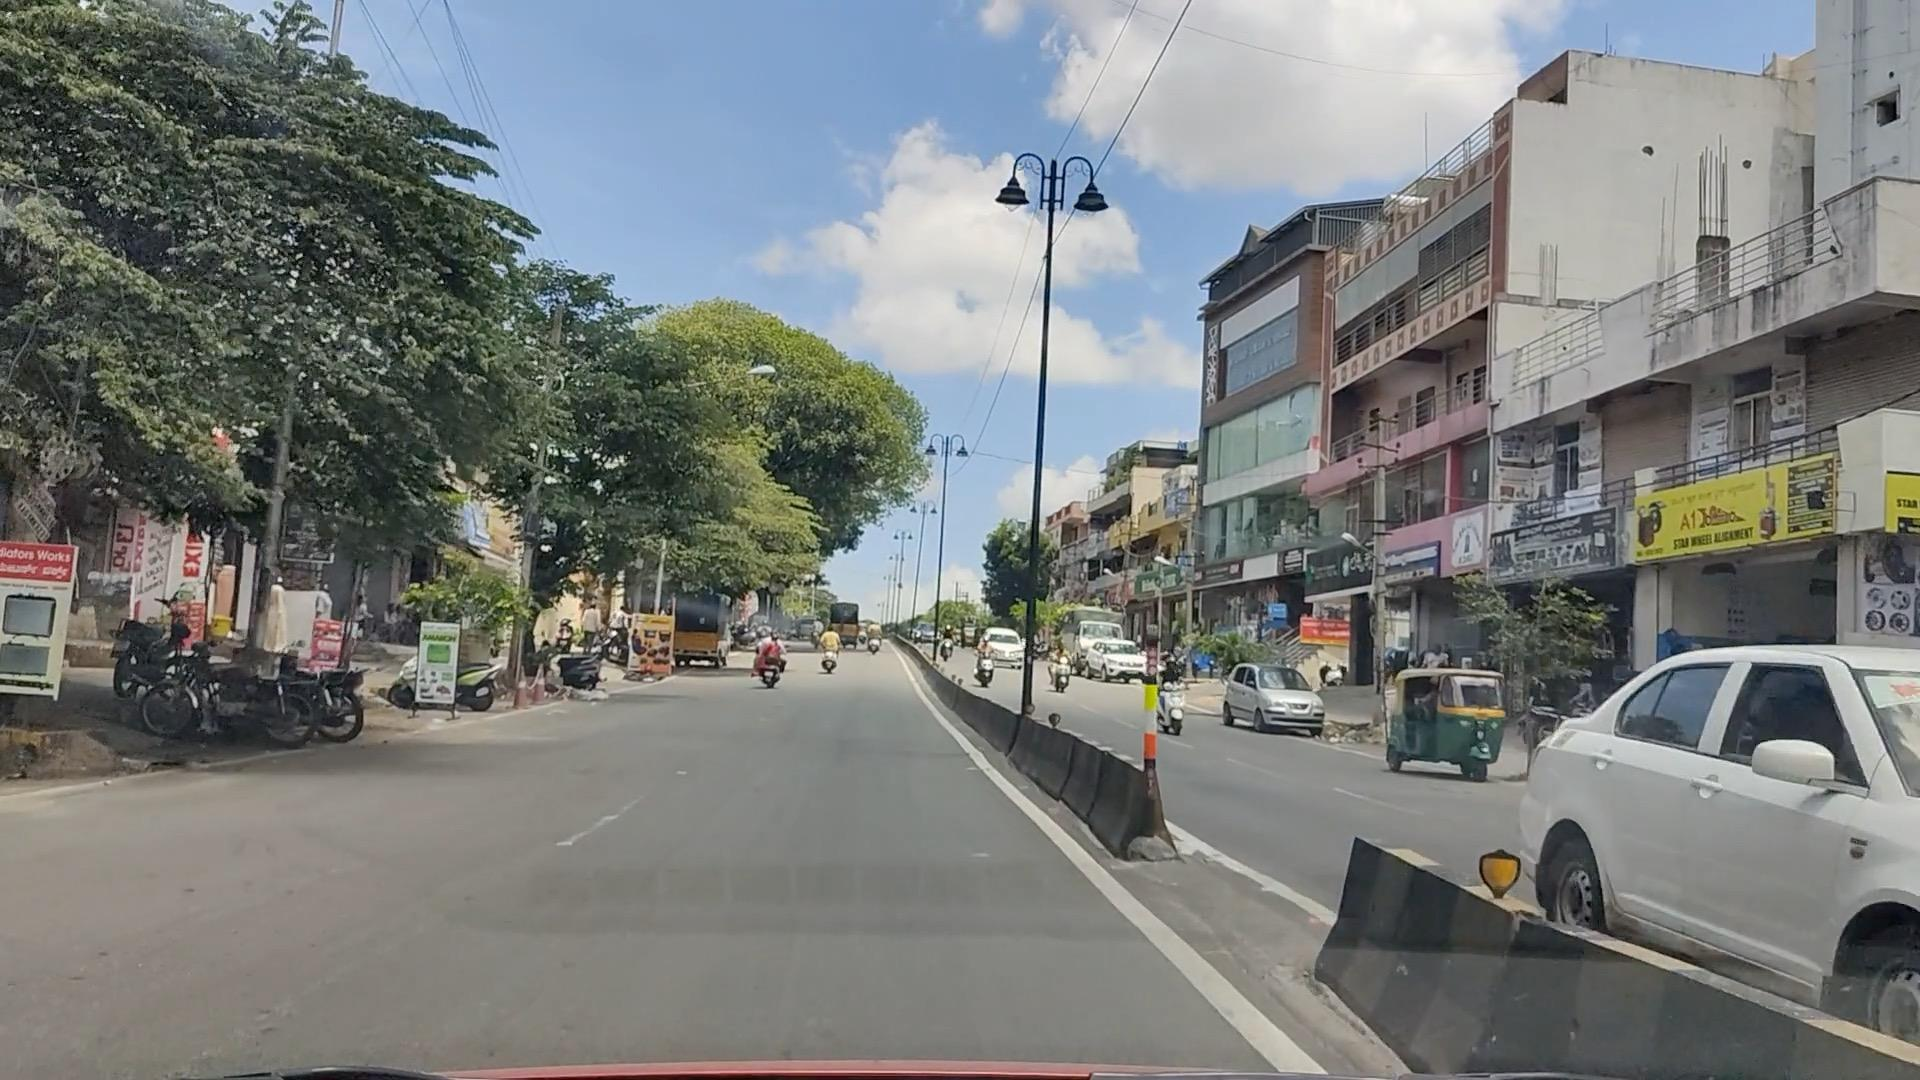LMV: (1383, 643, 1505, 766), (1243, 657, 1339, 747)
